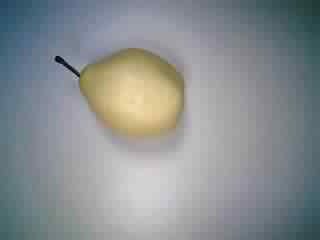pear: (48, 41, 200, 147)
